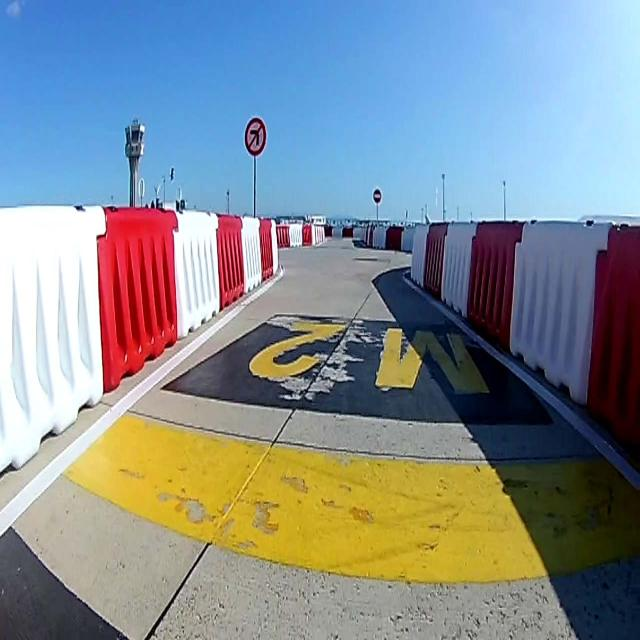soladonulmez: (245, 118, 267, 156)
